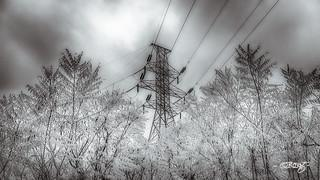power_tower: (138, 39, 197, 141)
